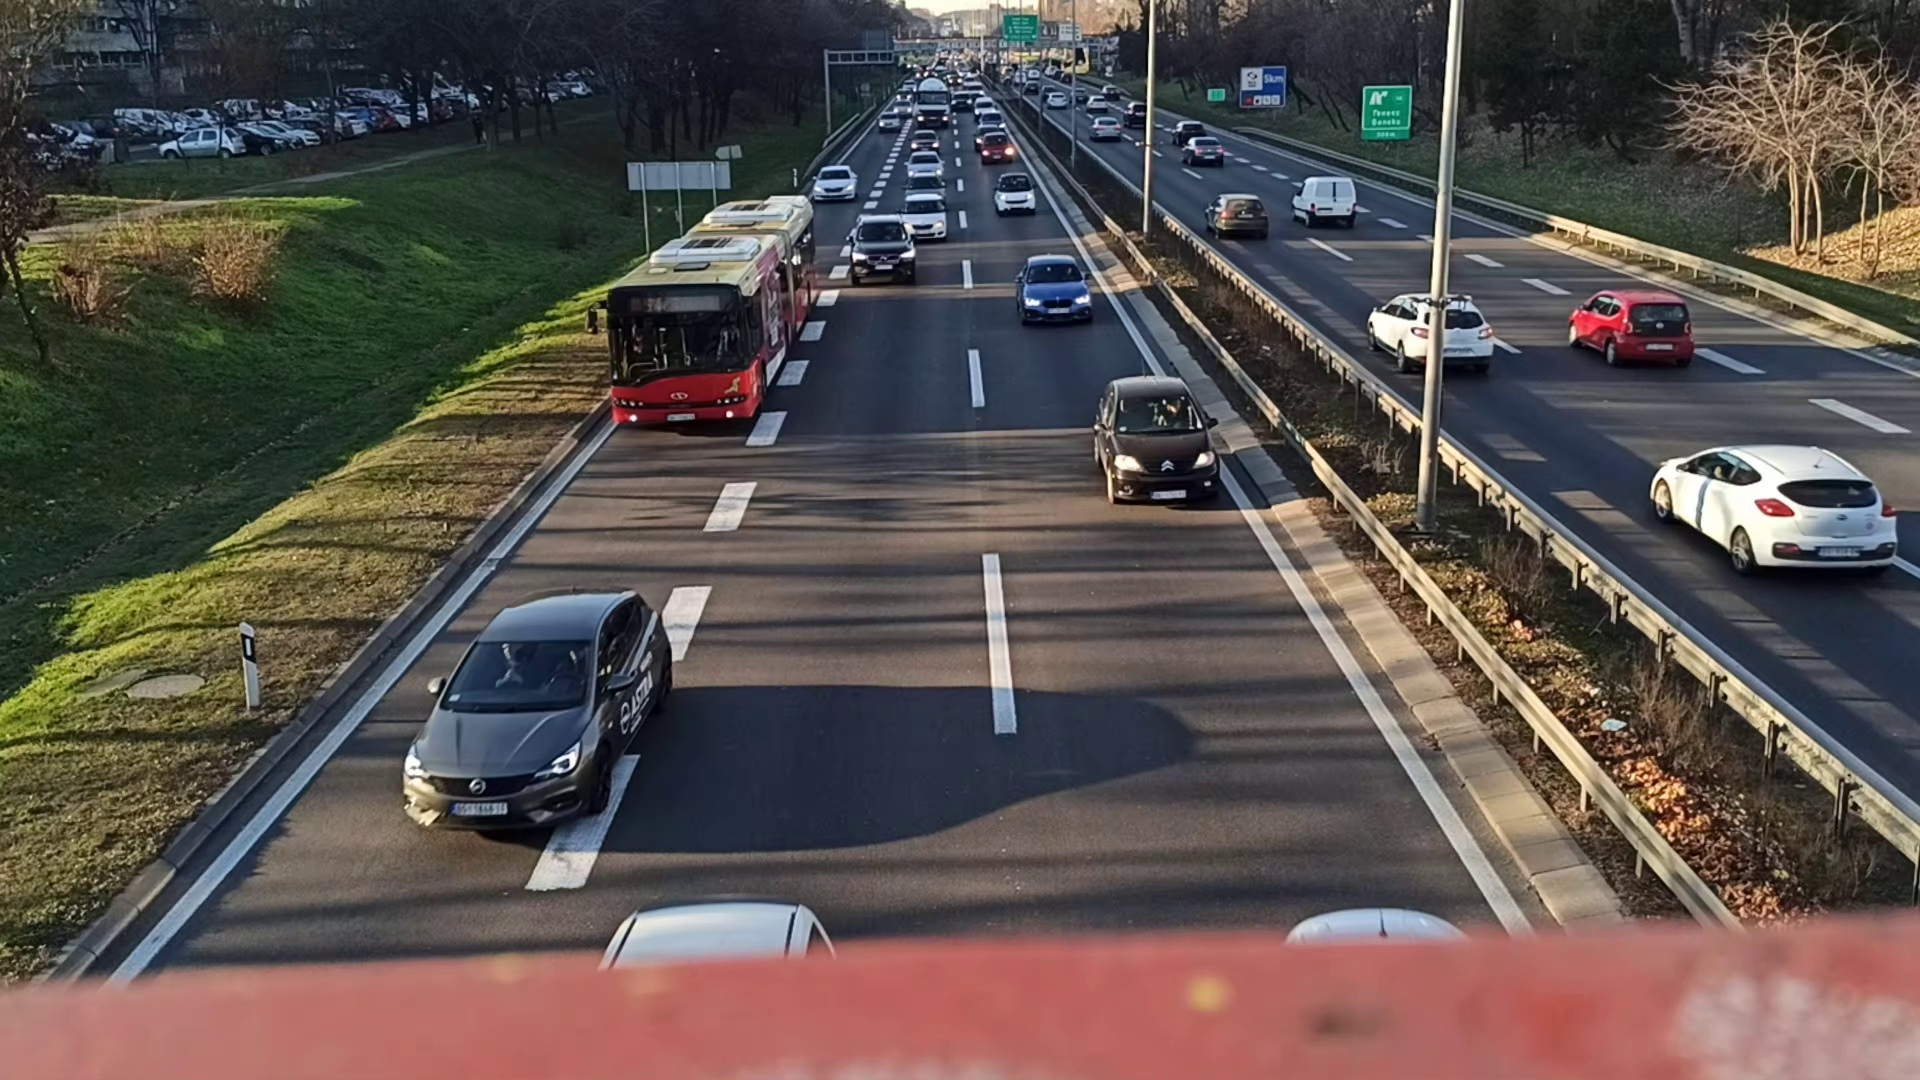bus: (603, 182, 820, 421)
car: (400, 589, 679, 840), (1650, 439, 1898, 585), (1093, 375, 1220, 506), (1369, 289, 1495, 367), (1571, 287, 1695, 365), (1015, 253, 1091, 323), (847, 216, 916, 284), (1205, 190, 1270, 239), (903, 190, 948, 239), (994, 170, 1038, 216), (815, 165, 855, 200), (1182, 137, 1224, 166), (905, 156, 943, 185), (977, 135, 1011, 164), (909, 131, 940, 153)
van: (1292, 174, 1357, 225)
